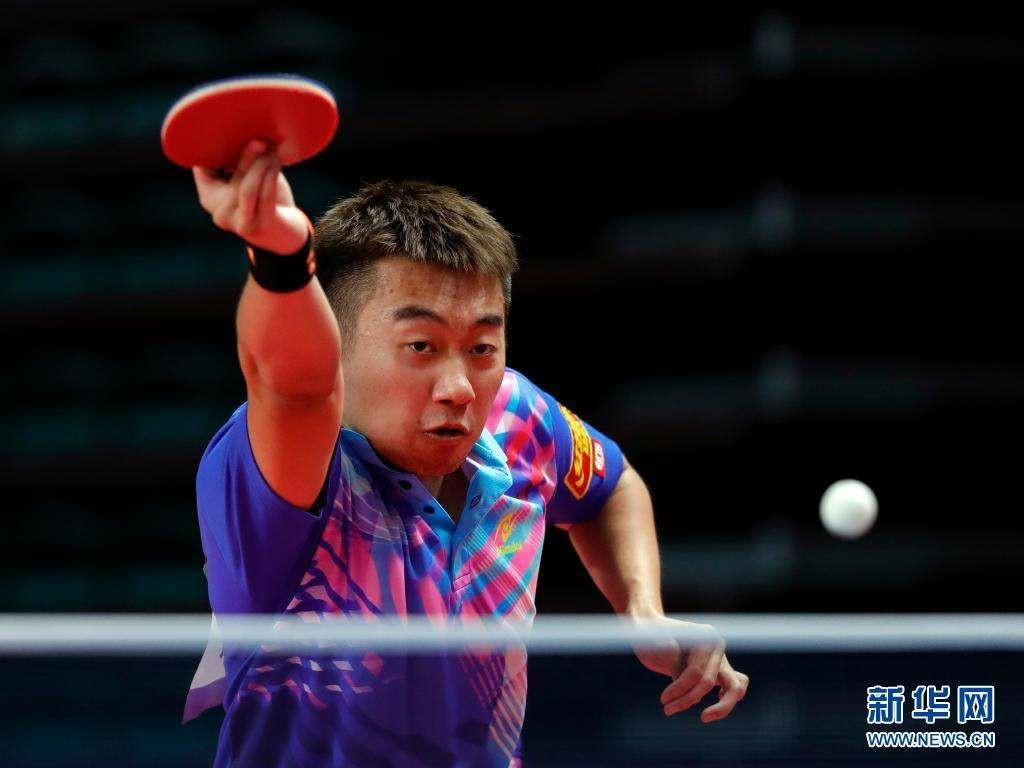ball: (811, 473, 881, 542)
